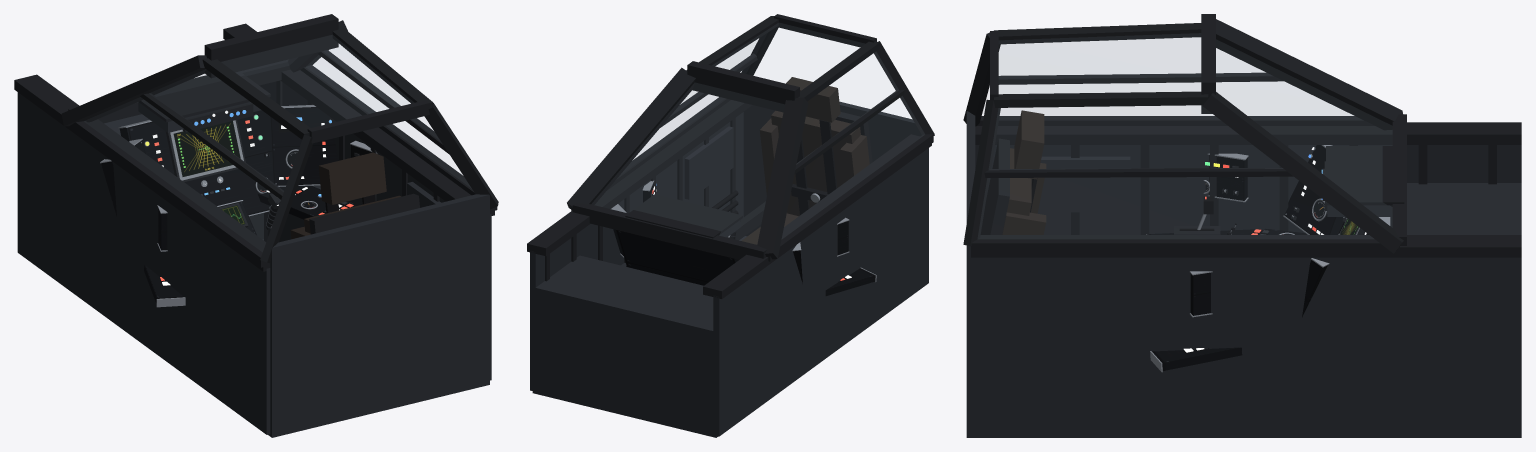
Rendered from cockpit.glb.
3 renders of one model, left to right at view 1: azimuth 30°, elevation 25°; view 2: azimuth 150°, elevation 25°; view 3: azimuth 270°, elevation 25°, orthographic. The views are drawn at different scales.
Visible parts, largest first — view 1: cockpit_tub_hull, canopy_frame, cockpit_tub_frame, dashboard_panel, dashboard_frame, canopy_glass, pilot_seat_seat, dashboard_scrMain, pilot_seat_frame, dashboard_trim, right_console_panel, left_console_panel (+2 smaller); view 2: cockpit_tub_hull, canopy_frame, cockpit_tub_frame, pilot_seat_seat, dashboard_panel, dashboard_frame, canopy_glass, pilot_seat_rubber, left_console_panel, pilot_seat_frame; view 3: cockpit_tub_hull, canopy_frame, cockpit_tub_frame, canopy_glass, dashboard_frame, pilot_seat_seat, dashboard_panel, right_console_panel, pilot_seat_frame, left_console_panel.
Part boxes in pixels (box(x1,y1,x2,y2)): cockpit_tub_hull: box(17, 81, 491, 437); canopy_frame: box(61, 14, 498, 267); cockpit_tub_frame: box(14, 23, 494, 271); dashboard_panel: box(101, 107, 338, 235); dashboard_frame: box(139, 71, 298, 227); canopy_glass: box(154, 44, 410, 113); pilot_seat_seat: box(290, 152, 400, 238); dashboard_scrMain: box(173, 121, 240, 176); pilot_seat_frame: box(309, 193, 419, 234); dashboard_trim: box(100, 105, 330, 216); right_console_panel: box(258, 145, 371, 219); left_console_panel: box(144, 208, 183, 303); cockpit_tub_hull: box(530, 101, 928, 437); canopy_frame: box(567, 14, 934, 261); cockpit_tub_frame: box(527, 100, 931, 298); pilot_seat_seat: box(741, 77, 869, 244); dashboard_panel: box(613, 229, 802, 285); dashboard_frame: box(625, 194, 742, 238); canopy_glass: box(621, 33, 766, 173); pilot_seat_rubber: box(791, 120, 837, 215); left_console_panel: box(825, 221, 875, 295); pilot_seat_frame: box(735, 112, 872, 240); cockpit_tub_hull: box(966, 111, 1521, 437); canopy_frame: box(963, 14, 1406, 253); cockpit_tub_frame: box(971, 122, 1521, 257); canopy_glass: box(999, 37, 1360, 119); dashboard_frame: box(1291, 146, 1404, 234); pilot_seat_seat: box(1002, 110, 1046, 234); dashboard_panel: box(1284, 145, 1368, 317); right_console_panel: box(1152, 272, 1242, 370); pilot_seat_frame: box(980, 138, 1009, 234); left_console_panel: box(1149, 155, 1307, 234).
Size of the model in its own units: 1.2 by 1.26 by 1.93.
Materials: 16 (4 with a texture image).
